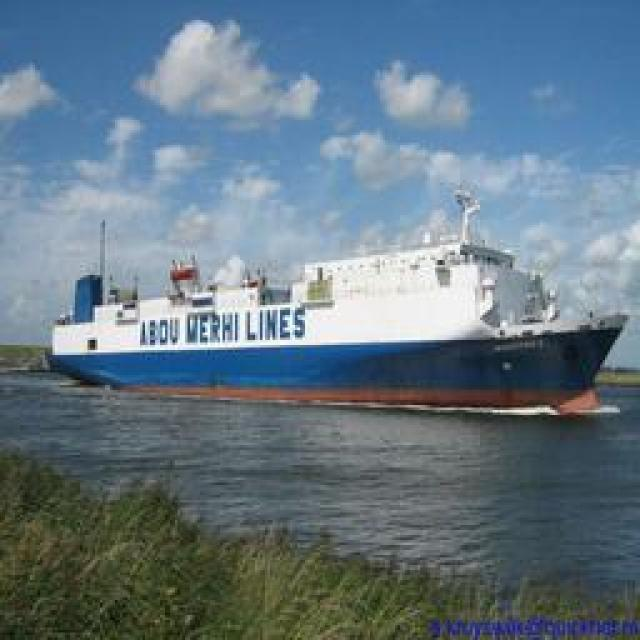CIV_Ship: (42, 198, 628, 410)
